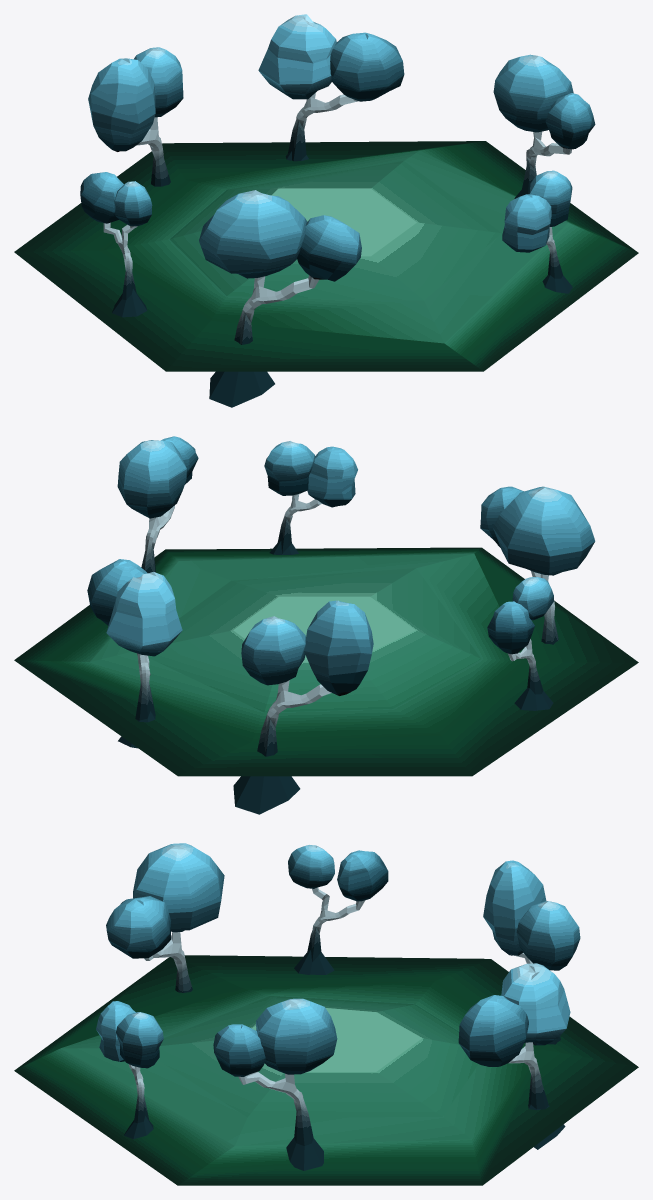
The model's file is SwampCol.fbx.
3 renders of one model, top to bottom at view 1: azimuth 30°, elevation 25°; view 2: azimuth 150°, elevation 25°; view 3: azimuth 270°, elevation 25°, orthographic.
Parts seen in each view (by area): view 1: Ground, SWTree_Leaves_Right.004, SWTree_Leaves_Left.002, SWTree_Leaves_Right.001, SWTree_Leaves_Right, SWTree_Leaves_Left.001, Tree.004, SWTree_Leaves_Left.004, SWTree_Leaves_Left.005, SWTree_Leaves_Left, SWTree_Leaves_Right.002, SWTree_Leaves_Left.003 (+7 smaller); view 2: Ground, SWTree_Leaves_Right.004, SWTree_Leaves_Left.002, SWTree_Leaves_Right.001, SWTree_Leaves_Right, Tree.002, SWTree_Leaves_Right.002, SWTree_Leaves_Left.005, SWTree_Leaves_Right.005, SWTree_Leaves_Left.001, SWTree_Leaves_Left.003, SWTree_Leaves_Right.003 (+7 smaller); view 3: Ground, SWTree_Leaves_Right.004, SWTree_Leaves_Right, SWTree_Leaves_Left.001, SWTree_Leaves_Right.001, SWTree_Leaves_Left.002, SWTree_Leaves_Right.002, SWTree_Leaves_Left.004, Tree, SWTree_Leaves_Left, SWTree_Leaves_Right.005, SWTree_Leaves_Left.003 (+6 smaller).
Part boxes in pixels (x1,y1,x2,y2): Ground: (14, 141, 638, 371); SWTree_Leaves_Right.004: (199, 190, 307, 278); SWTree_Leaves_Left.002: (88, 58, 155, 151); SWTree_Leaves_Right.001: (258, 14, 336, 99); SWTree_Leaves_Right: (493, 54, 573, 132); SWTree_Leaves_Left.001: (330, 32, 404, 101); Tree.004: (209, 275, 318, 407); SWTree_Leaves_Left.004: (297, 215, 361, 281); SWTree_Leaves_Left.005: (502, 194, 551, 252); SWTree_Leaves_Left: (545, 93, 595, 149); SWTree_Leaves_Right.002: (134, 47, 183, 117); SWTree_Leaves_Left.003: (80, 172, 123, 223); Ground: (14, 547, 638, 776); SWTree_Leaves_Right.004: (493, 486, 595, 575); SWTree_Leaves_Left.002: (304, 600, 373, 695); SWTree_Leaves_Right.001: (106, 572, 182, 656); SWTree_Leaves_Right: (117, 440, 186, 518); Tree.002: (233, 680, 331, 814); SWTree_Leaves_Right.002: (241, 616, 305, 685); SWTree_Leaves_Left.005: (307, 446, 357, 507); SWTree_Leaves_Right.005: (264, 441, 315, 495); SWTree_Leaves_Left.001: (87, 559, 147, 625); SWTree_Leaves_Left.003: (487, 601, 534, 654); SWTree_Leaves_Right.003: (512, 577, 553, 620); Ground: (14, 955, 638, 1185); SWTree_Leaves_Right.004: (133, 843, 224, 932); SWTree_Leaves_Right: (256, 998, 337, 1074); SWTree_Leaves_Left.001: (458, 995, 528, 1066); SWTree_Leaves_Right.001: (501, 963, 570, 1045); SWTree_Leaves_Left.002: (483, 860, 546, 955); SWTree_Leaves_Right.002: (516, 901, 580, 970); SWTree_Leaves_Left.004: (106, 896, 171, 958); Tree: (238, 1072, 323, 1170); SWTree_Leaves_Left: (213, 1024, 265, 1076); SWTree_Leaves_Right.005: (116, 1012, 163, 1068); SWTree_Leaves_Left.003: (337, 850, 388, 901).
Size of the model in its own units: 153 by 64.19 by 175.
